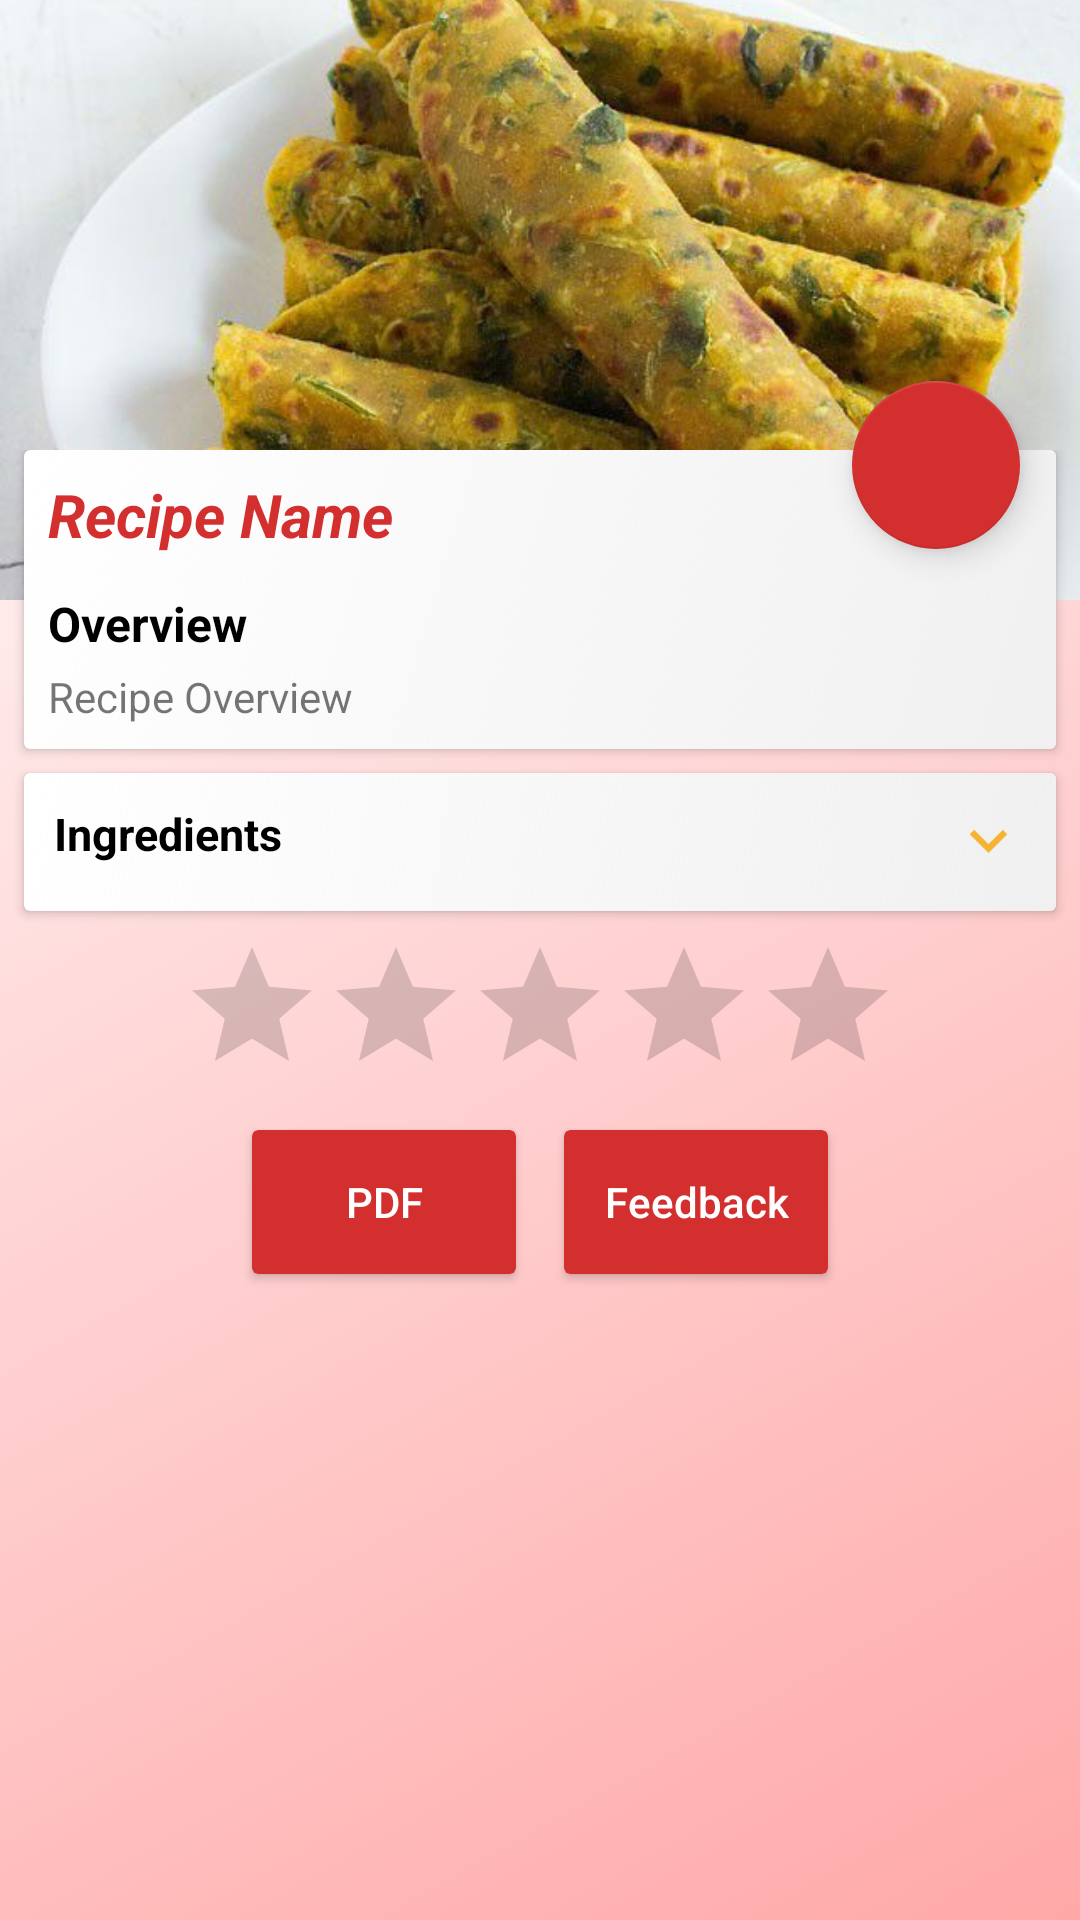

Icon bounding boxes for this 1080px×1920px phone screenshot, format (x1, y1, x2, y2):
expand more: (970, 830, 1007, 853)
